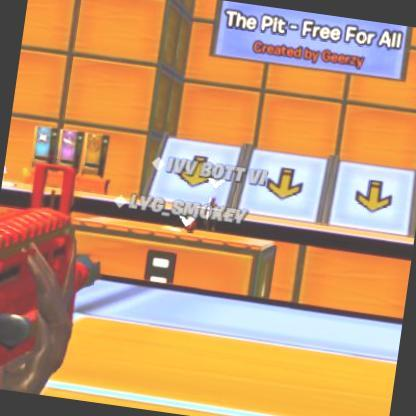person: (206, 197, 221, 228)
